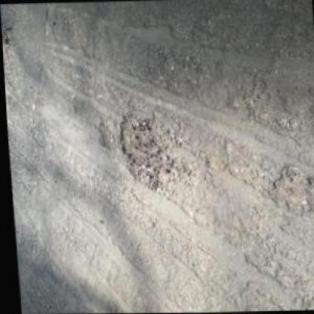Hueco: (113, 108, 184, 197), (94, 122, 114, 150)
